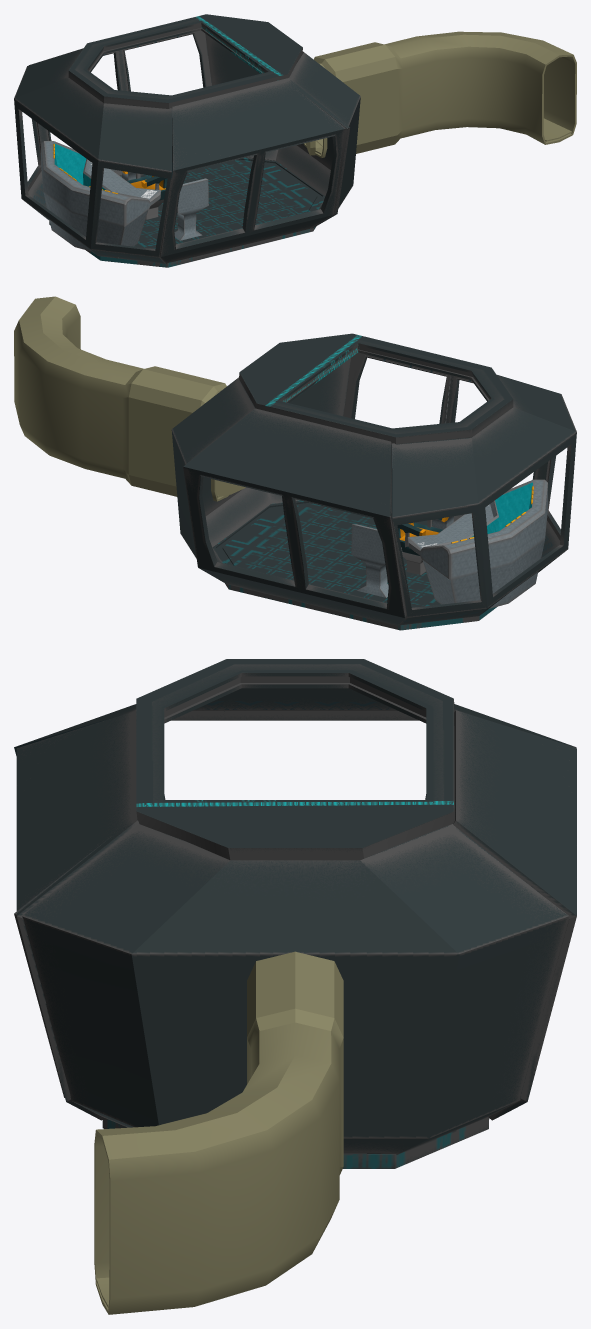
The model's file is EXP_2.fbx.
3 renders of one model, top to bottom at view 1: azimuth 30°, elevation 25°; view 2: azimuth 150°, elevation 25°; view 3: azimuth 270°, elevation 25°, orthographic. The views are drawn at different scales.
Parts seen in each view (by area): view 1: Static1; view 2: Static1; view 3: Static1.
Part boxes in pixels (x1,y1,x2,y2): Static1: (14,14,576,267); Static1: (14,296,576,630); Static1: (14,659,576,1314).
Bounding box in the file's own units: 8630 × 2719 × 4574.
